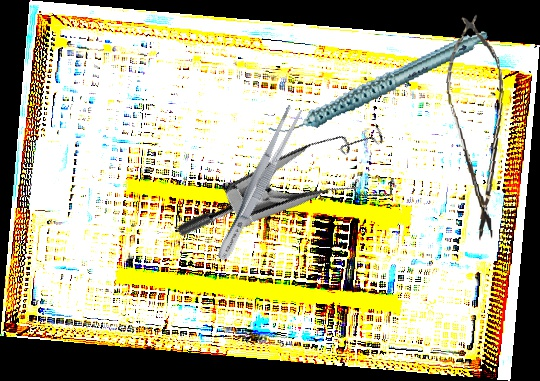Dressing Forceps: (212, 102, 305, 265)
Handpiece: (257, 30, 500, 138)
Micro Scissor: (440, 10, 517, 244)
Speculum: (174, 89, 417, 313)
